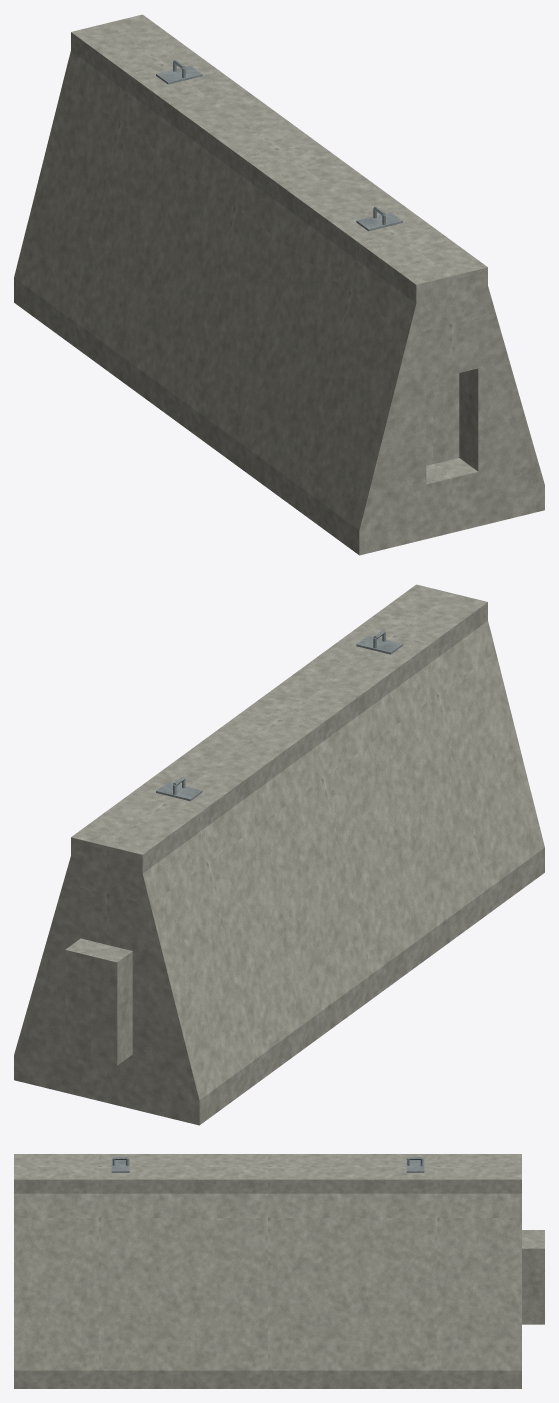
3 views of the same model, one above another, from view 1: azimuth 30°, elevation 25°; view 2: azimuth 150°, elevation 25°; view 3: azimuth 270°, elevation 25° (orthographic). The views are drawn at different scales.
Visible parts, largest first — view 1: VIS_Precast_Concrete, VIS_Galvanized_Steel; view 2: VIS_Precast_Concrete, VIS_Galvanized_Steel; view 3: VIS_Precast_Concrete, VIS_Galvanized_Steel.
Boxes of the visible parts, left/top/right/bottom form: VIS_Precast_Concrete: left=14, top=14, right=544, bottom=555; VIS_Galvanized_Steel: left=156, top=59, right=402, bottom=231; VIS_Precast_Concrete: left=14, top=584, right=544, bottom=1125; VIS_Galvanized_Steel: left=156, top=629, right=402, bottom=801; VIS_Precast_Concrete: left=14, top=1154, right=544, bottom=1388; VIS_Galvanized_Steel: left=111, top=1157, right=424, bottom=1172.
Size of the model in its own units: 0.62 by 0.8622 by 2.09.
3 materials, 3 textured.
